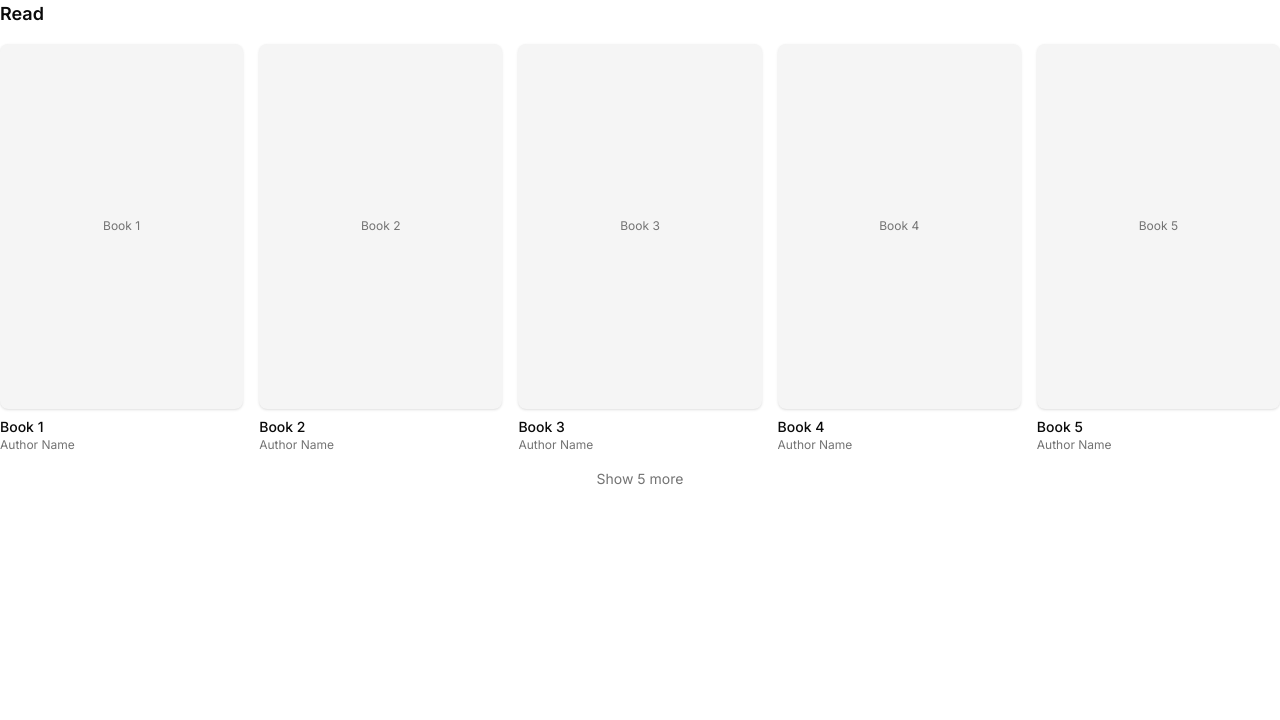
ShelfSection › expands to show all entries when toggle is clicked
Click the button "Show 5 more": (640, 479) [0,469,1279,489]
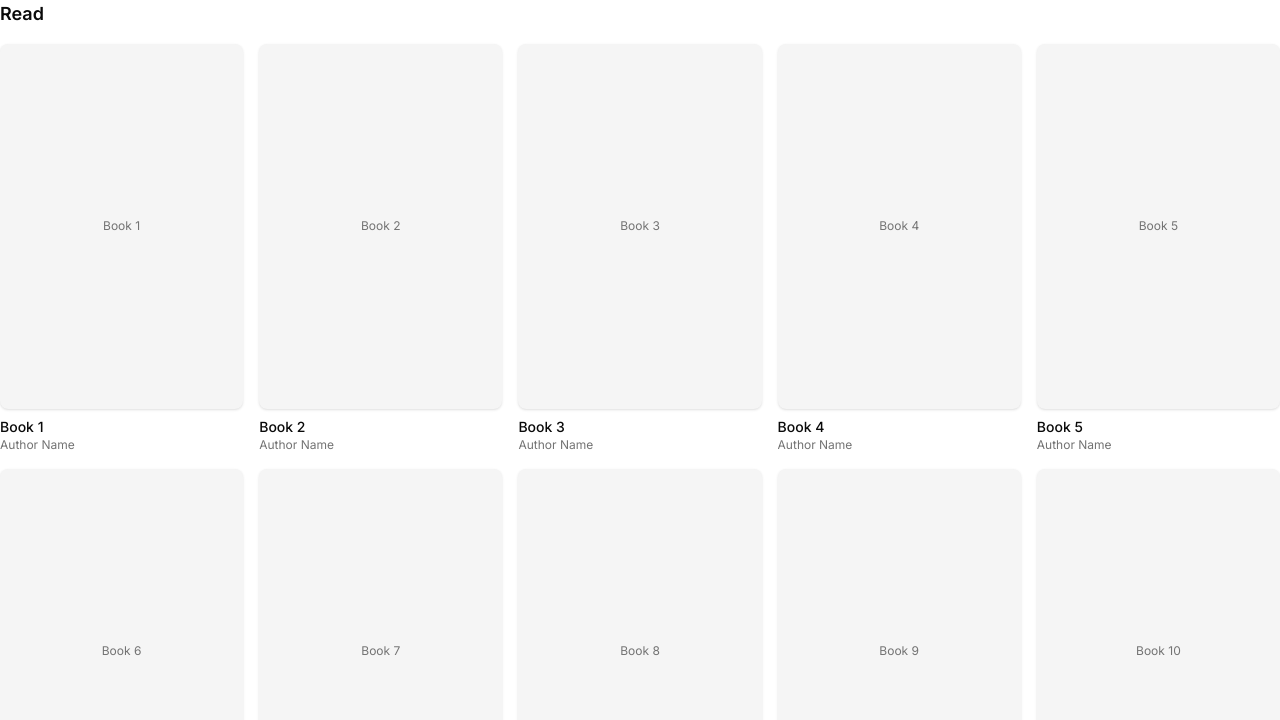
Result: the number of links is 10
